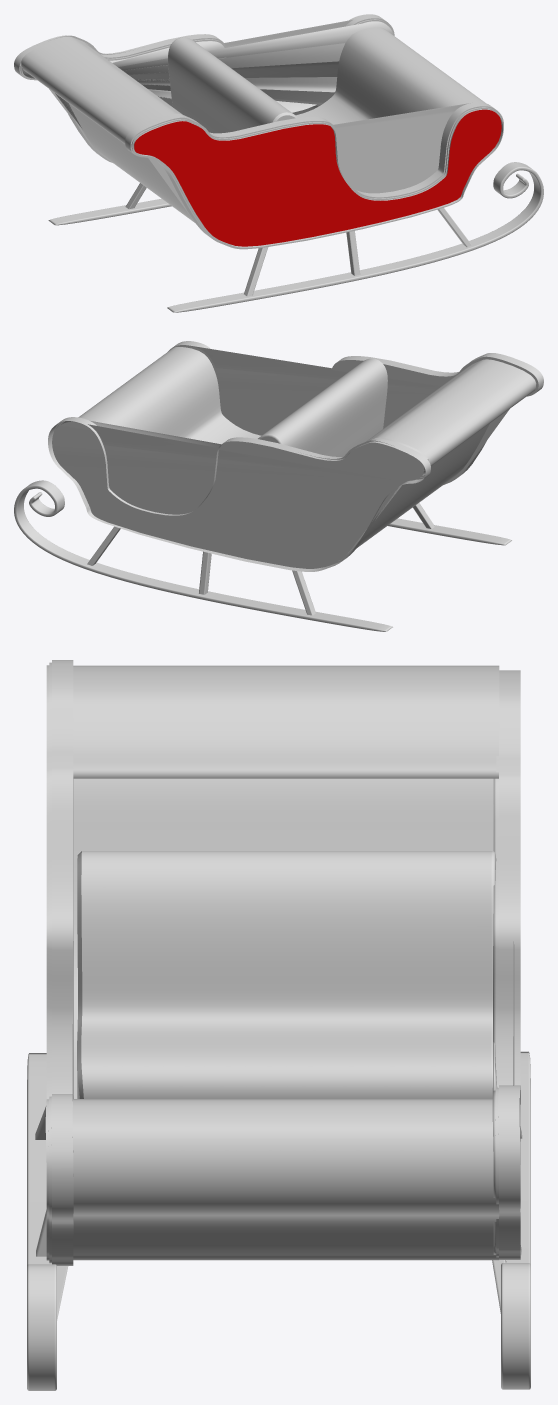
Rendered from SLEIGH.fbx.
3 views of the same model, one above another, from view 1: azimuth 30°, elevation 25°; view 2: azimuth 150°, elevation 25°; view 3: azimuth 270°, elevation 25° (orthographic). The views are drawn at different scales.
Visible parts, largest first — view 1: Estrusione, Tappo_1, Estrusione.002, Loft.1_3, Loft.1_1; view 2: Estrusione.002, Tappo_1, Estrusione, Loft.1_1, Loft.1_3; view 3: Tappo_1, Estrusione, Estrusione.002, Loft.1_3, Loft.1_1.
Part boxes in pixels (x1,y1,x2,y2): Estrusione: (125, 102, 503, 249); Tappo_1: (21, 27, 485, 222); Estrusione.002: (14, 14, 394, 162); Loft.1_3: (167, 162, 543, 312); Loft.1_1: (48, 183, 171, 225); Estrusione.002: (48, 417, 430, 571); Tappo_1: (78, 347, 536, 552); Estrusione: (168, 341, 543, 484); Loft.1_1: (14, 480, 392, 631); Loft.1_3: (388, 503, 511, 545); Tappo_1: (72, 665, 499, 1260); Estrusione: (45, 660, 73, 1265); Estrusione.002: (492, 670, 520, 1259); Loft.1_3: (27, 1053, 68, 1390); Loft.1_1: (492, 1051, 530, 1389).
Size of the model in its own units: 25005 by 11825 by 13389.
